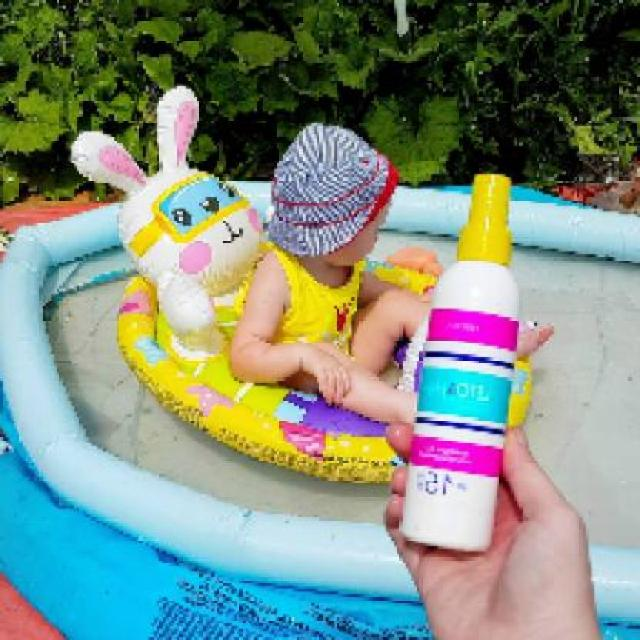child: (227, 121, 556, 428)
